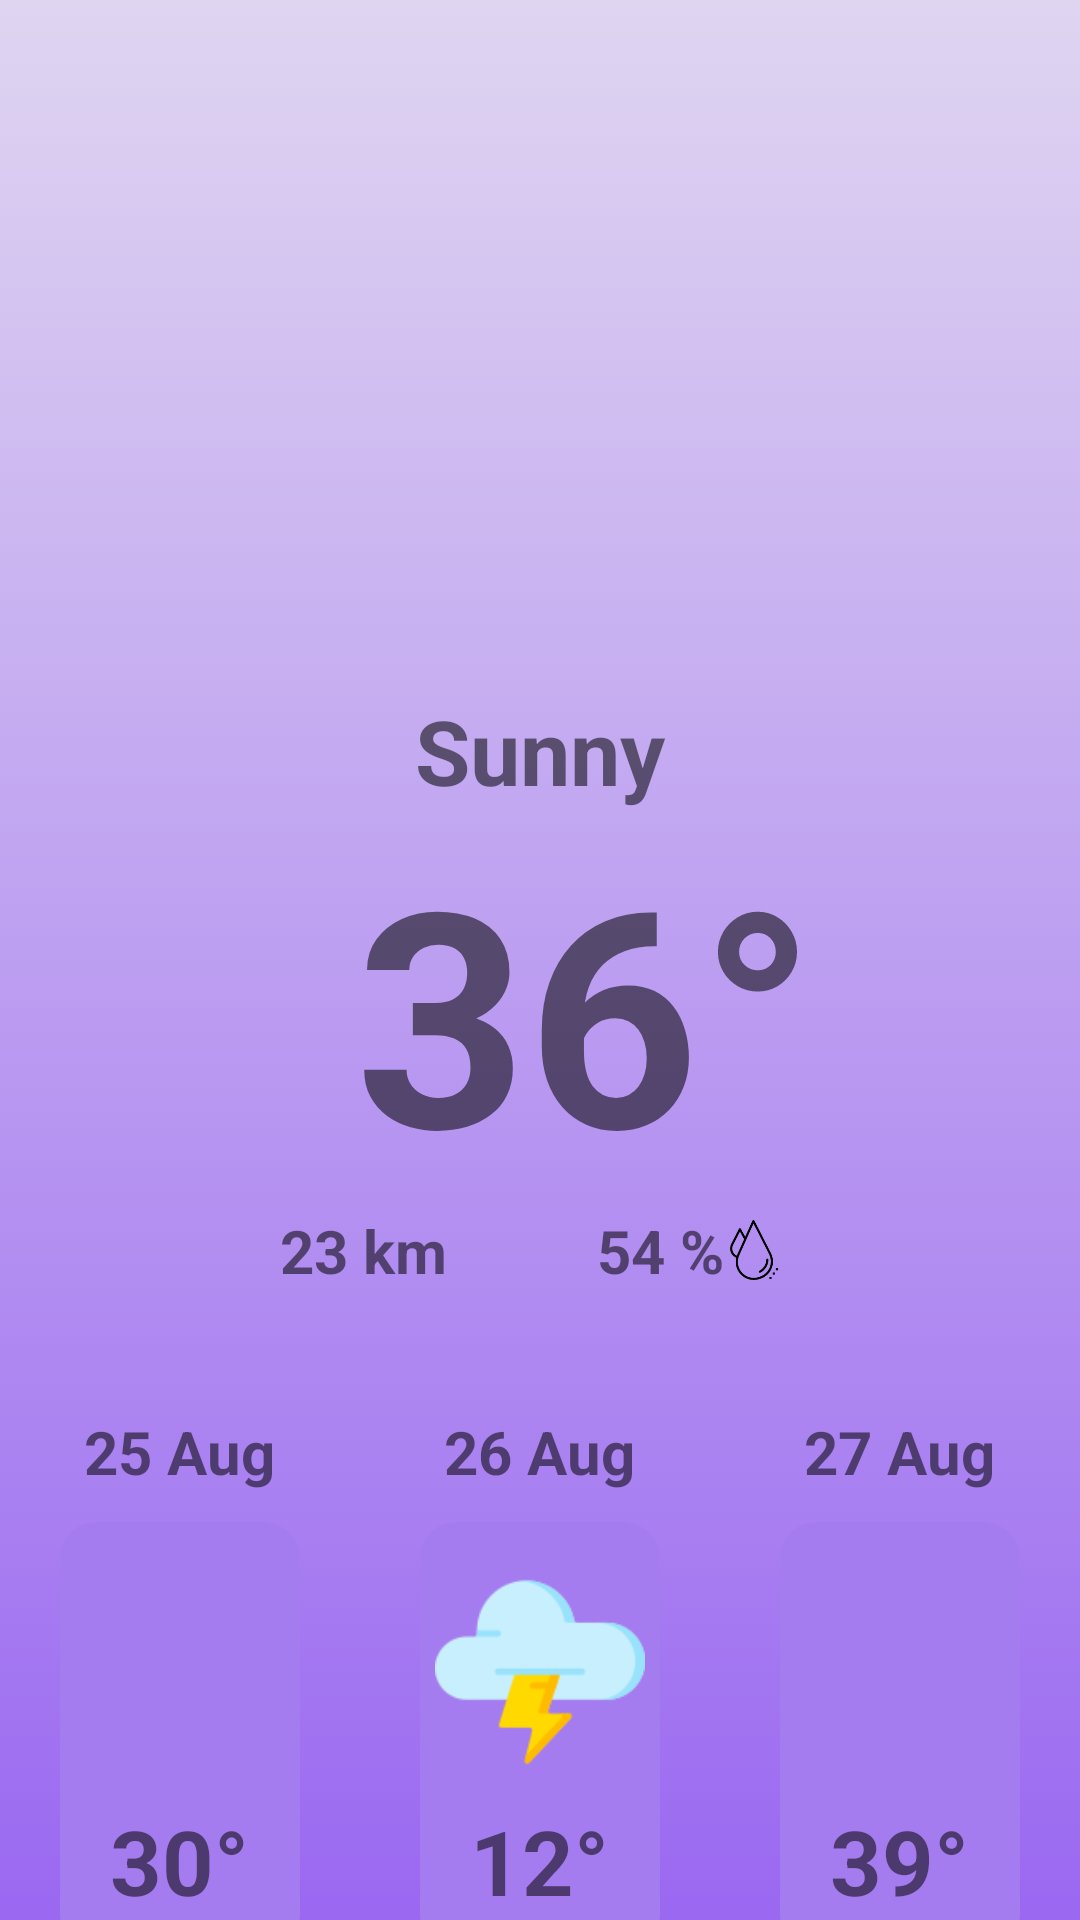

Where to tap for icons on this 1080px x 1920px app screen, as [x,y]:
humidity: [754,1250]
thunder: [540,1672]
